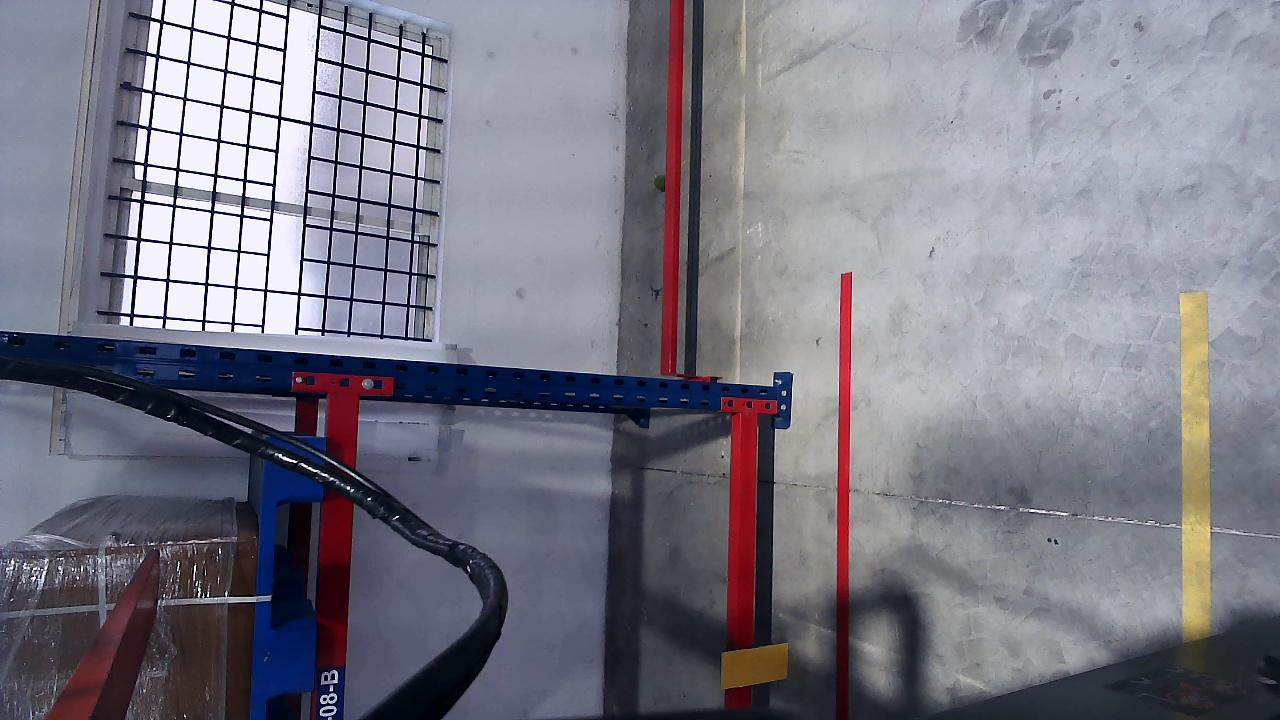h_rack: (312, 392, 360, 718), (729, 411, 761, 713)
orange_strip: (721, 643, 788, 688)
red_line: (832, 269, 852, 719)
yellow_line: (1179, 298, 1211, 635)
